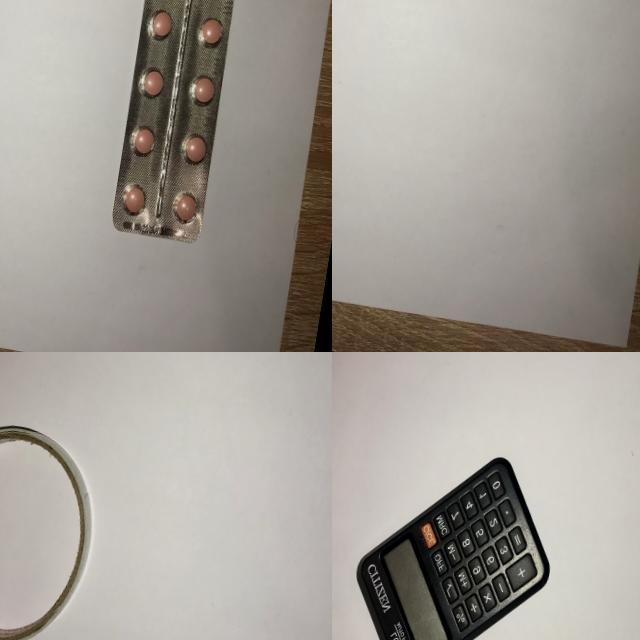calculator: (334, 430, 571, 640)
scotch: (0, 408, 111, 640)
tablets: (101, 0, 252, 254)
